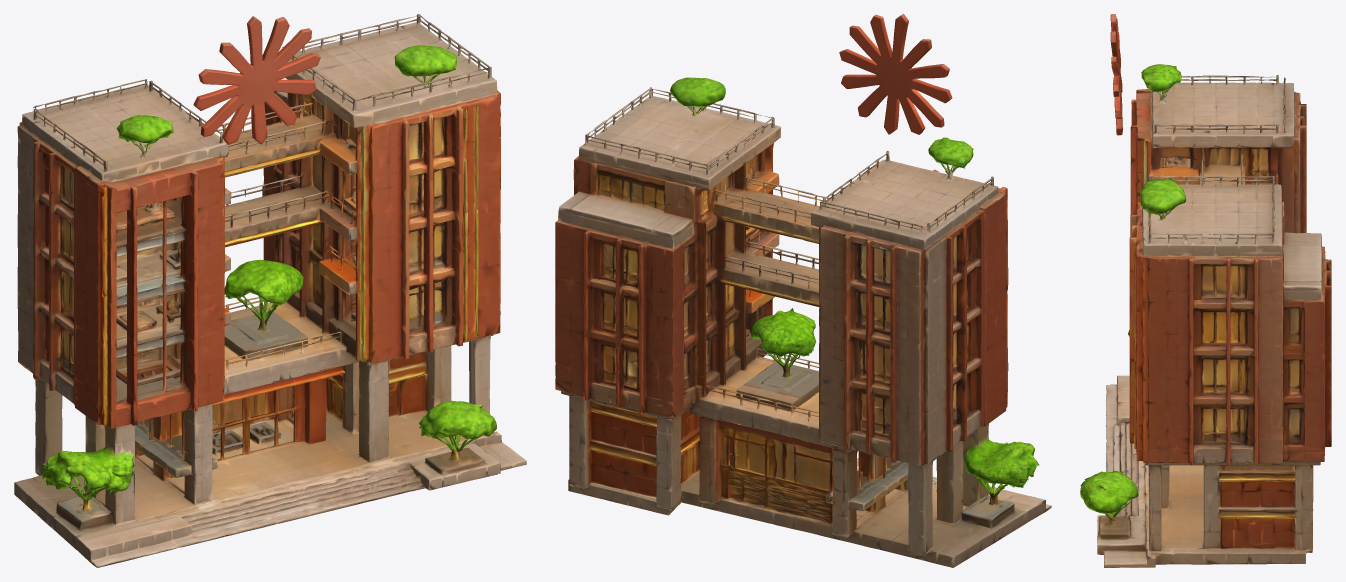
Rendered from claude-building-v2.glb.
3 renders of one model, left to right at view 1: azimuth 30°, elevation 25°; view 2: azimuth 150°, elevation 25°; view 3: azimuth 270°, elevation 25°, orthographic. The views are drawn at different scales.
Visible parts, largest first — view 1: ClaudeShell, ClaudeLogo; view 2: ClaudeShell, ClaudeLogo; view 3: ClaudeShell, ClaudeLogo.
Boxes of the visible parts, x1,y1,x2,y2 form: ClaudeShell: (14, 14, 526, 567); ClaudeLogo: (193, 16, 320, 144); ClaudeShell: (555, 77, 1051, 567); ClaudeLogo: (839, 14, 952, 134); ClaudeShell: (1080, 64, 1331, 567); ClaudeLogo: (1110, 14, 1122, 135).
Size of the model in its own units: 0.9014 by 0.9795 by 0.5063.
2 materials, 2 textured.
